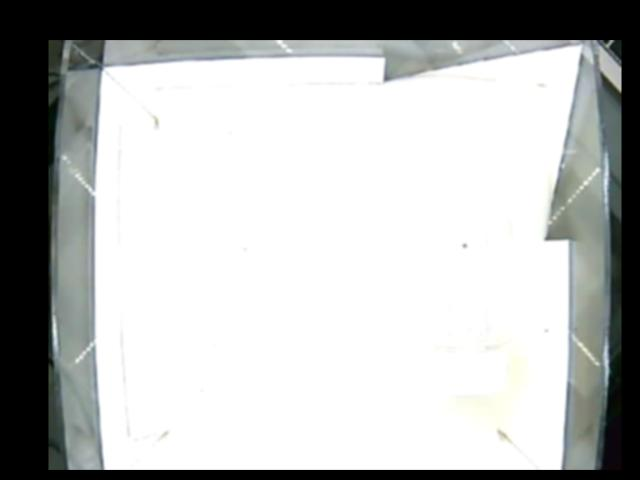Bottle: (422, 211, 519, 396)
